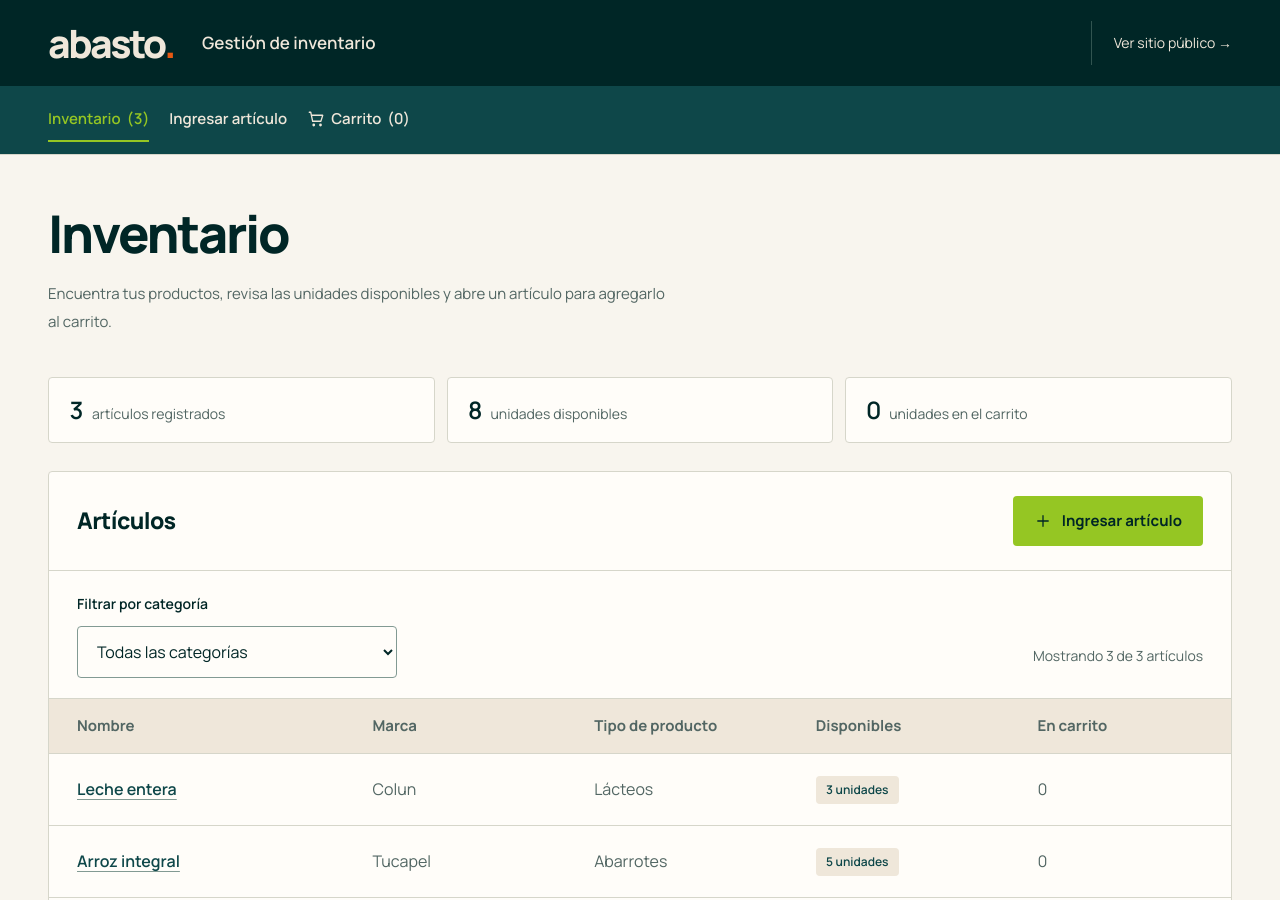
Test: Inventario y carrito › filtra dinámicamente, conserva el inventario completo y abre el detalle del producto
This screenshot has width=1280, height=900.
Select "Lácteos" in the dropdown labelled "Filtrar por categoría" at (237, 652), box [77,626,397,678]
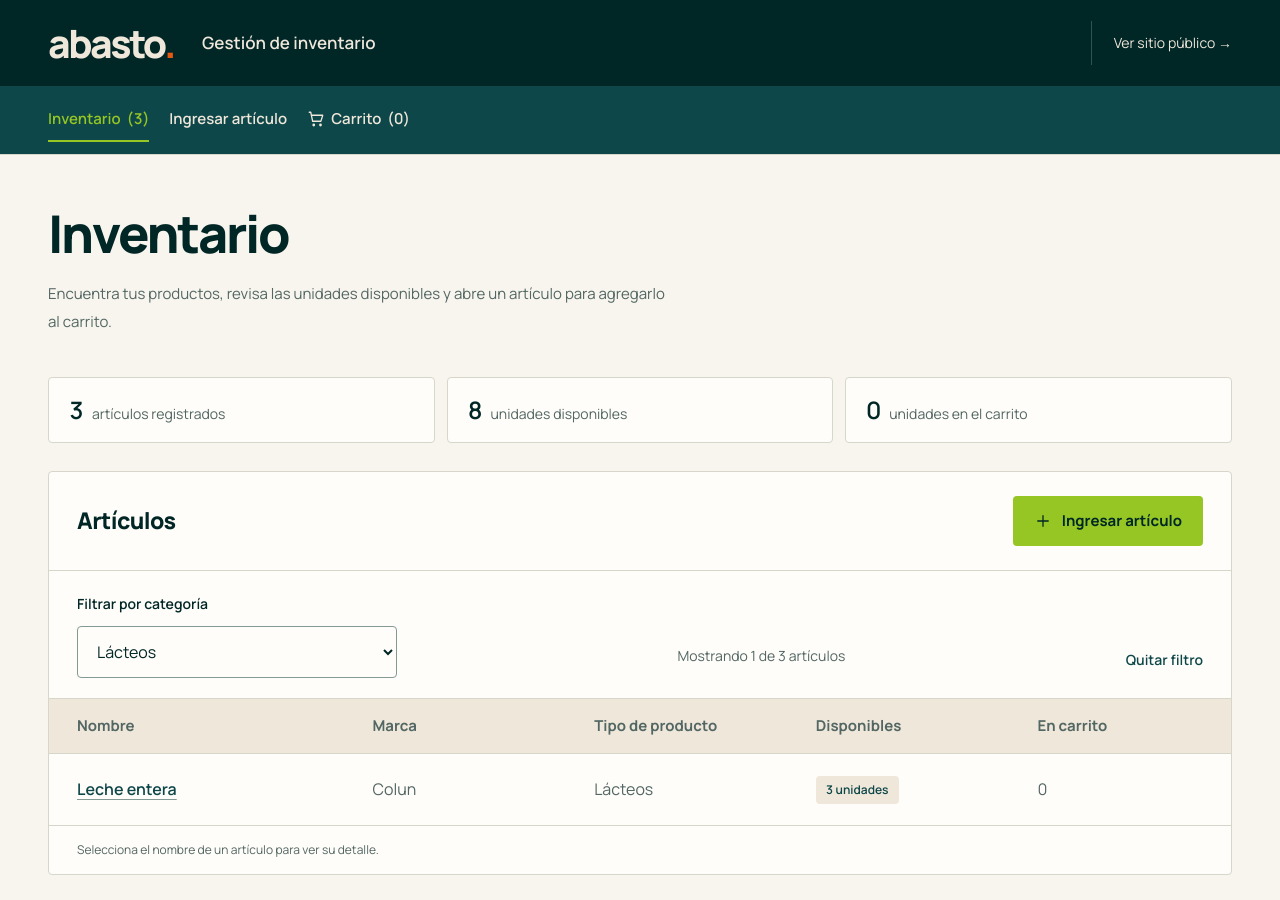
Expected: the number of rows is 2, [49,699,1231,753]; [49,754,1231,825]
Expected: the link "Arroz integral" is gone
Expected: the message reads "Mostrando 1 de 3 artículos", [677,646,845,665]
Select "Bebidas" in the dropdown labelled "Filtrar por categoría" at (237, 652), box [77,626,397,678]
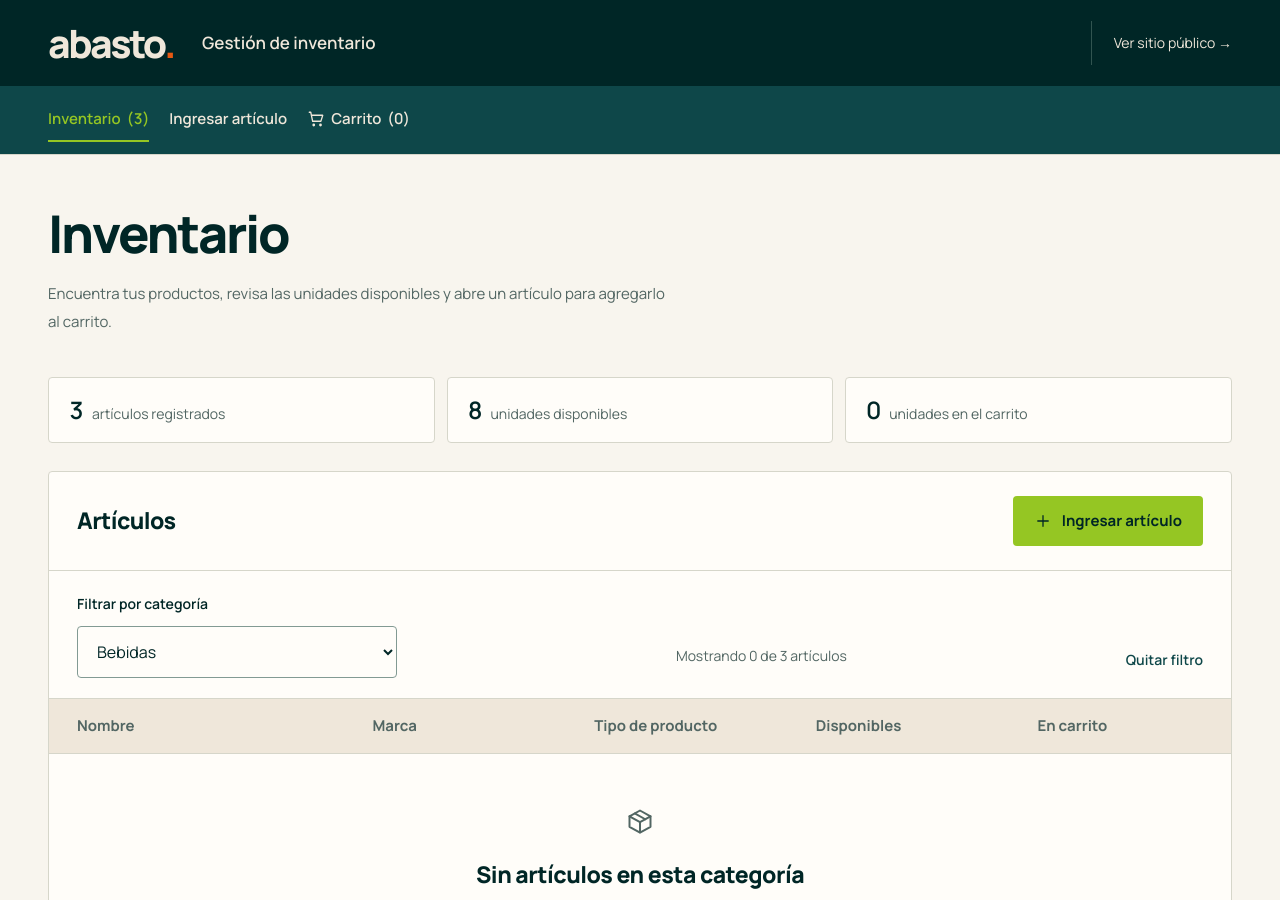
Expected: the heading "Sin artículos en esta categoría" is shown, [476,858,804,890]
Click the button "Quitar filtro" at (1164, 660), box [1126,650,1203,670]
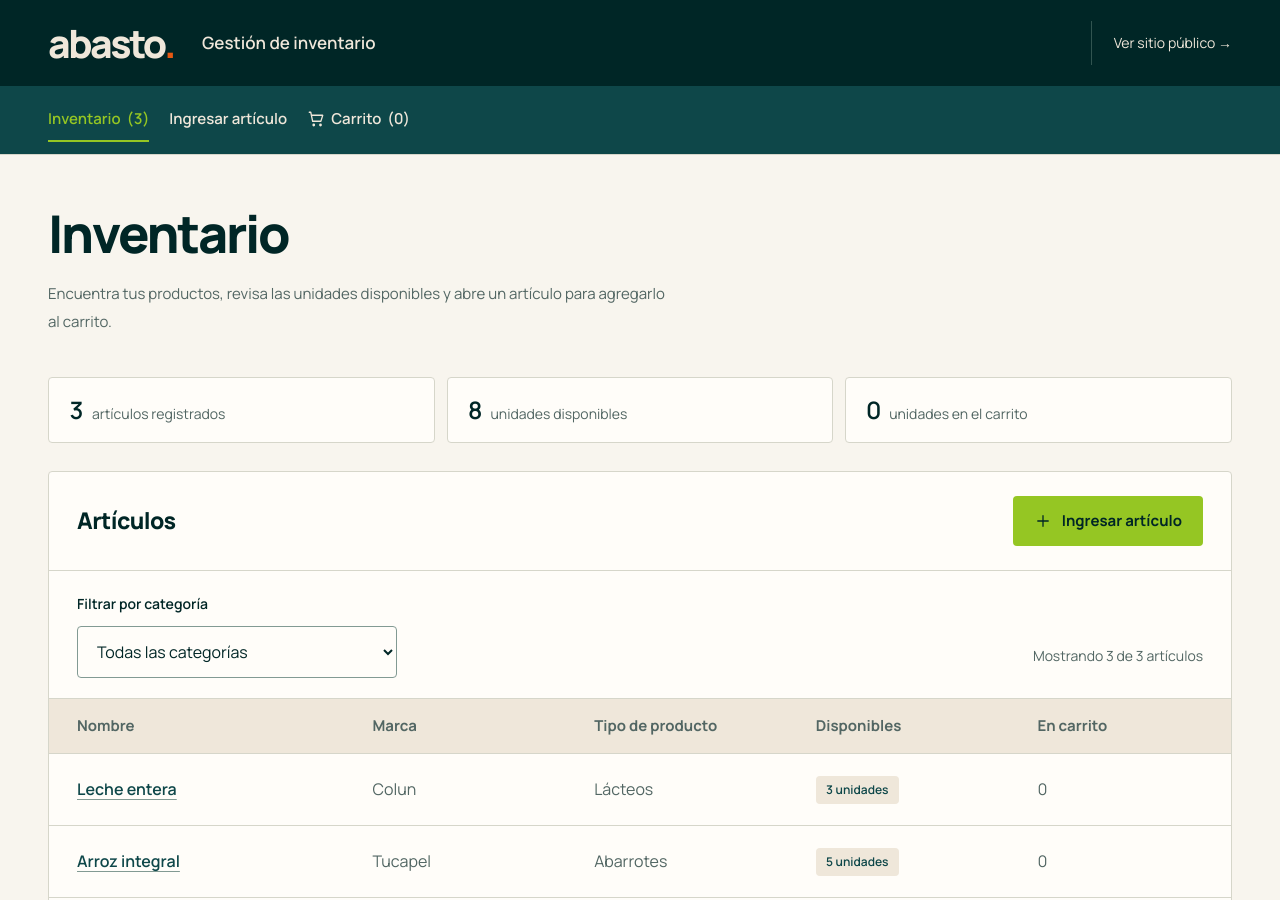
Click the link "Leche entera" at (127, 789), box [77,778,177,800]
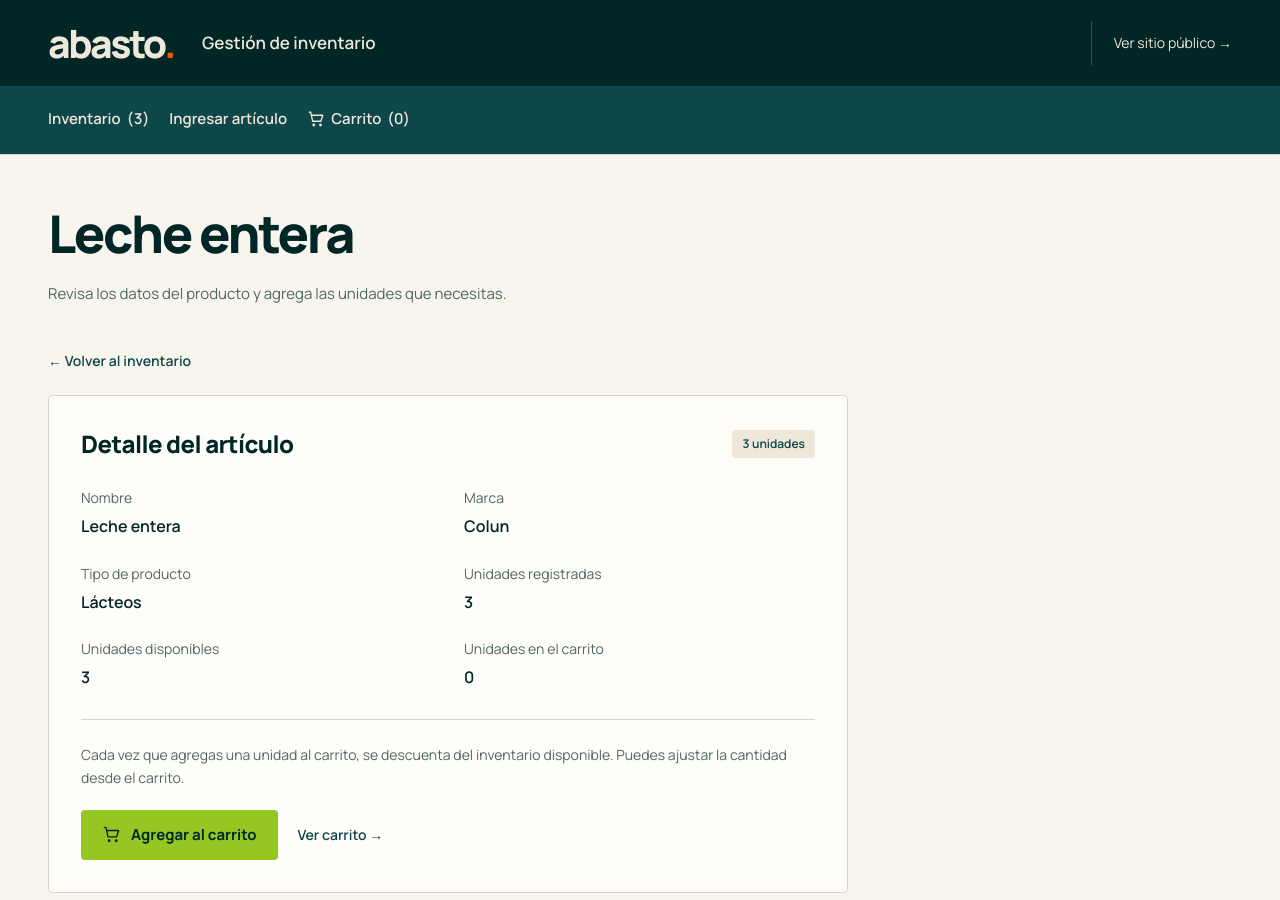
Expected: the heading "Detalle del artículo" is shown, [81,428,293,460]
Expected: the heading "Leche entera" is shown, [48,198,353,269]
